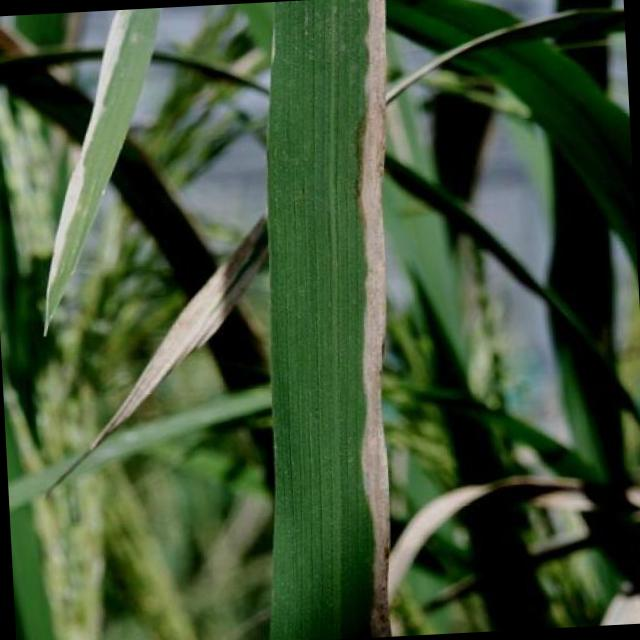Rice_Bacterial_Blight: (331, 0, 418, 623)
